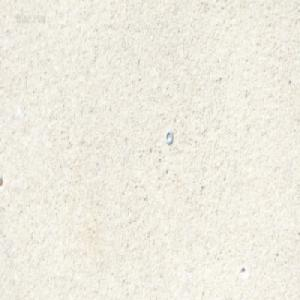Washer: (165, 129, 173, 144)
